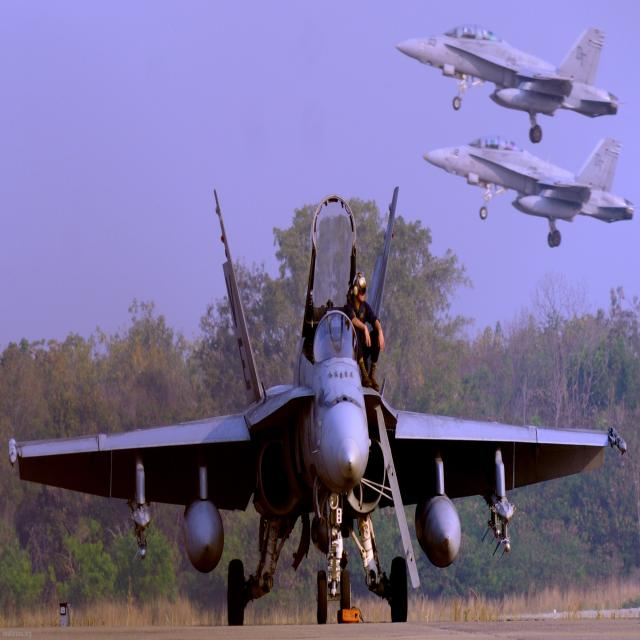MIL_Plane: (8, 186, 627, 626), (394, 24, 629, 144), (422, 135, 640, 248)
